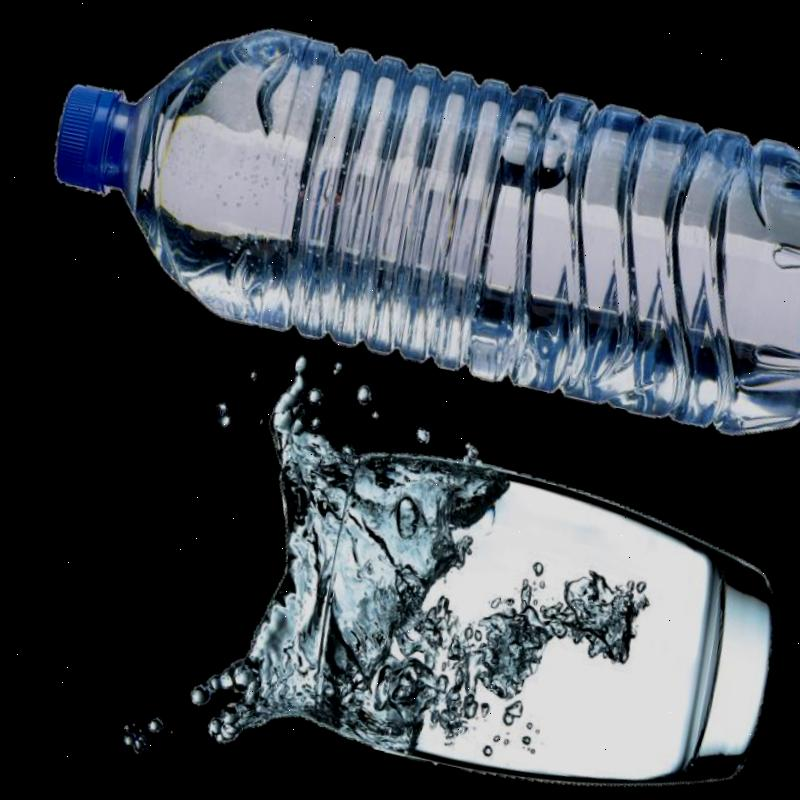botella: (22, 1, 800, 453)
